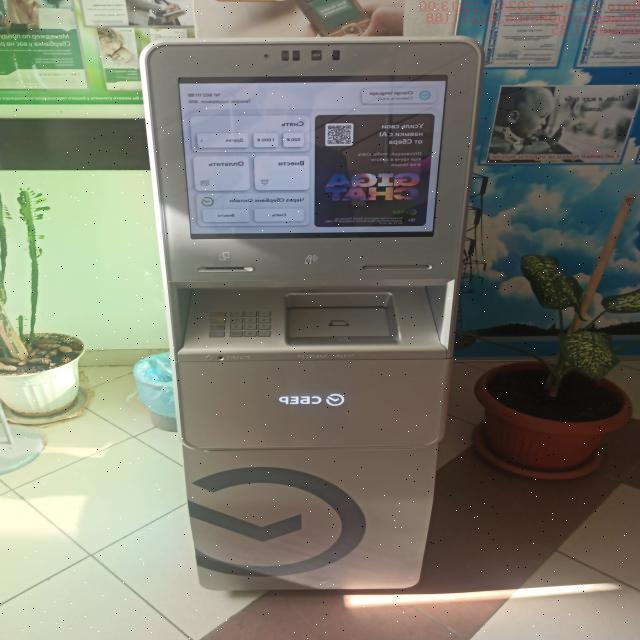bank: (140, 30, 487, 598)
